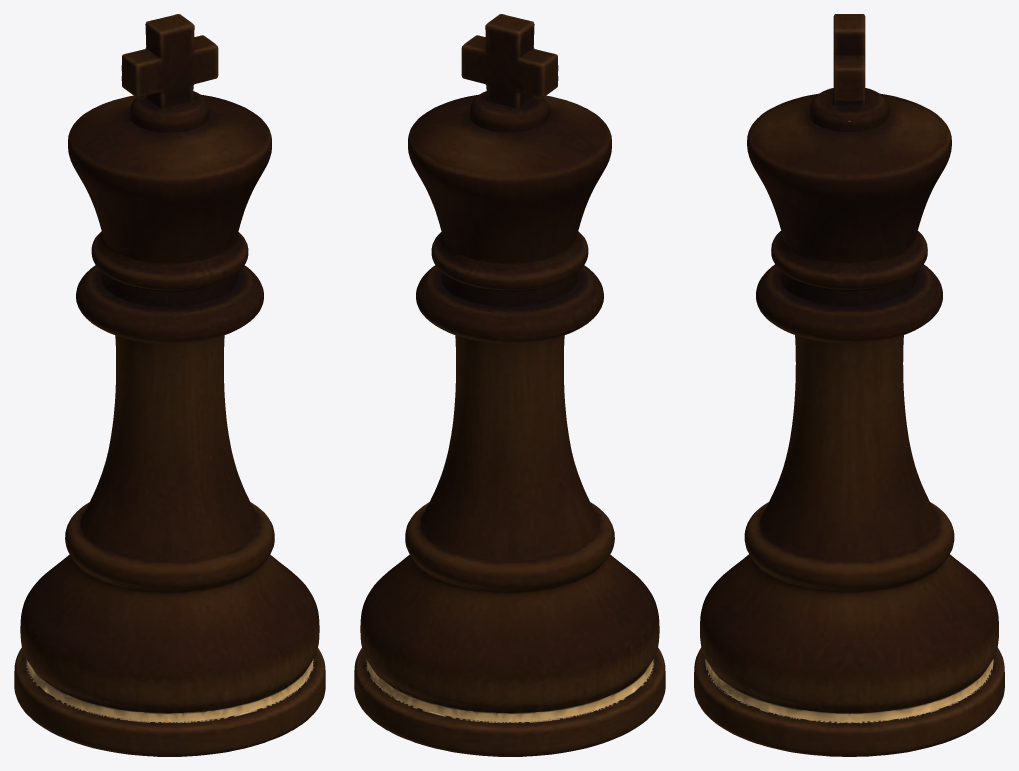
File: 02_king_dark.glb
The picture shows the model from 3 angles, left to right: view 1: azimuth 30°, elevation 25°; view 2: azimuth 150°, elevation 25°; view 3: azimuth 270°, elevation 25°; orthographic projection.
Visible parts, largest first — view 1: world; view 2: world; view 3: world.
Part boxes in pixels (x1,y1,x2,y2): world: [14, 14, 325, 756]; world: [354, 14, 665, 756]; world: [694, 14, 1004, 756].
Bounding box in the file's own units: 0.4204 × 1 × 0.4201.
1 material, 1 textured.
